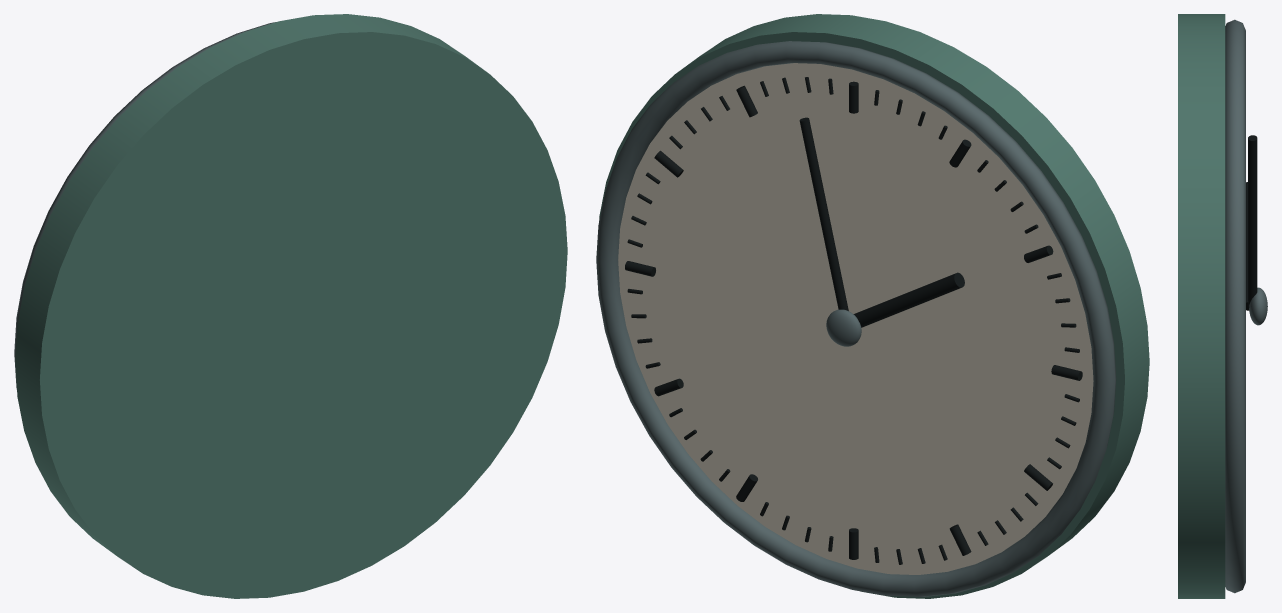
Rendered from WallClock.obj.
3 views of the same model, side by side, from view 1: azimuth 30°, elevation 25°; view 2: azimuth 150°, elevation 25°; view 3: azimuth 270°, elevation 25° (orthographic). The views are drawn at different scales.
Parts seen in each view (by area): view 1: WallClock; view 2: WallClock; view 3: WallClock.
Boxes of the visible parts, x1=… form: WallClock: x1=14, y1=14, x2=567, y2=598; WallClock: x1=596, y1=14, x2=1149, y2=598; WallClock: x1=1178, y1=14, x2=1267, y2=598.
Size of the model in its own units: 0.62 by 0.62 by 0.095.
